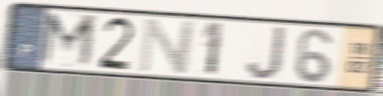1: (201, 20, 225, 79)
2: (98, 15, 137, 72)
6: (293, 26, 334, 85)
J: (244, 24, 287, 81)
M: (36, 10, 99, 71)
N: (136, 17, 199, 75)
